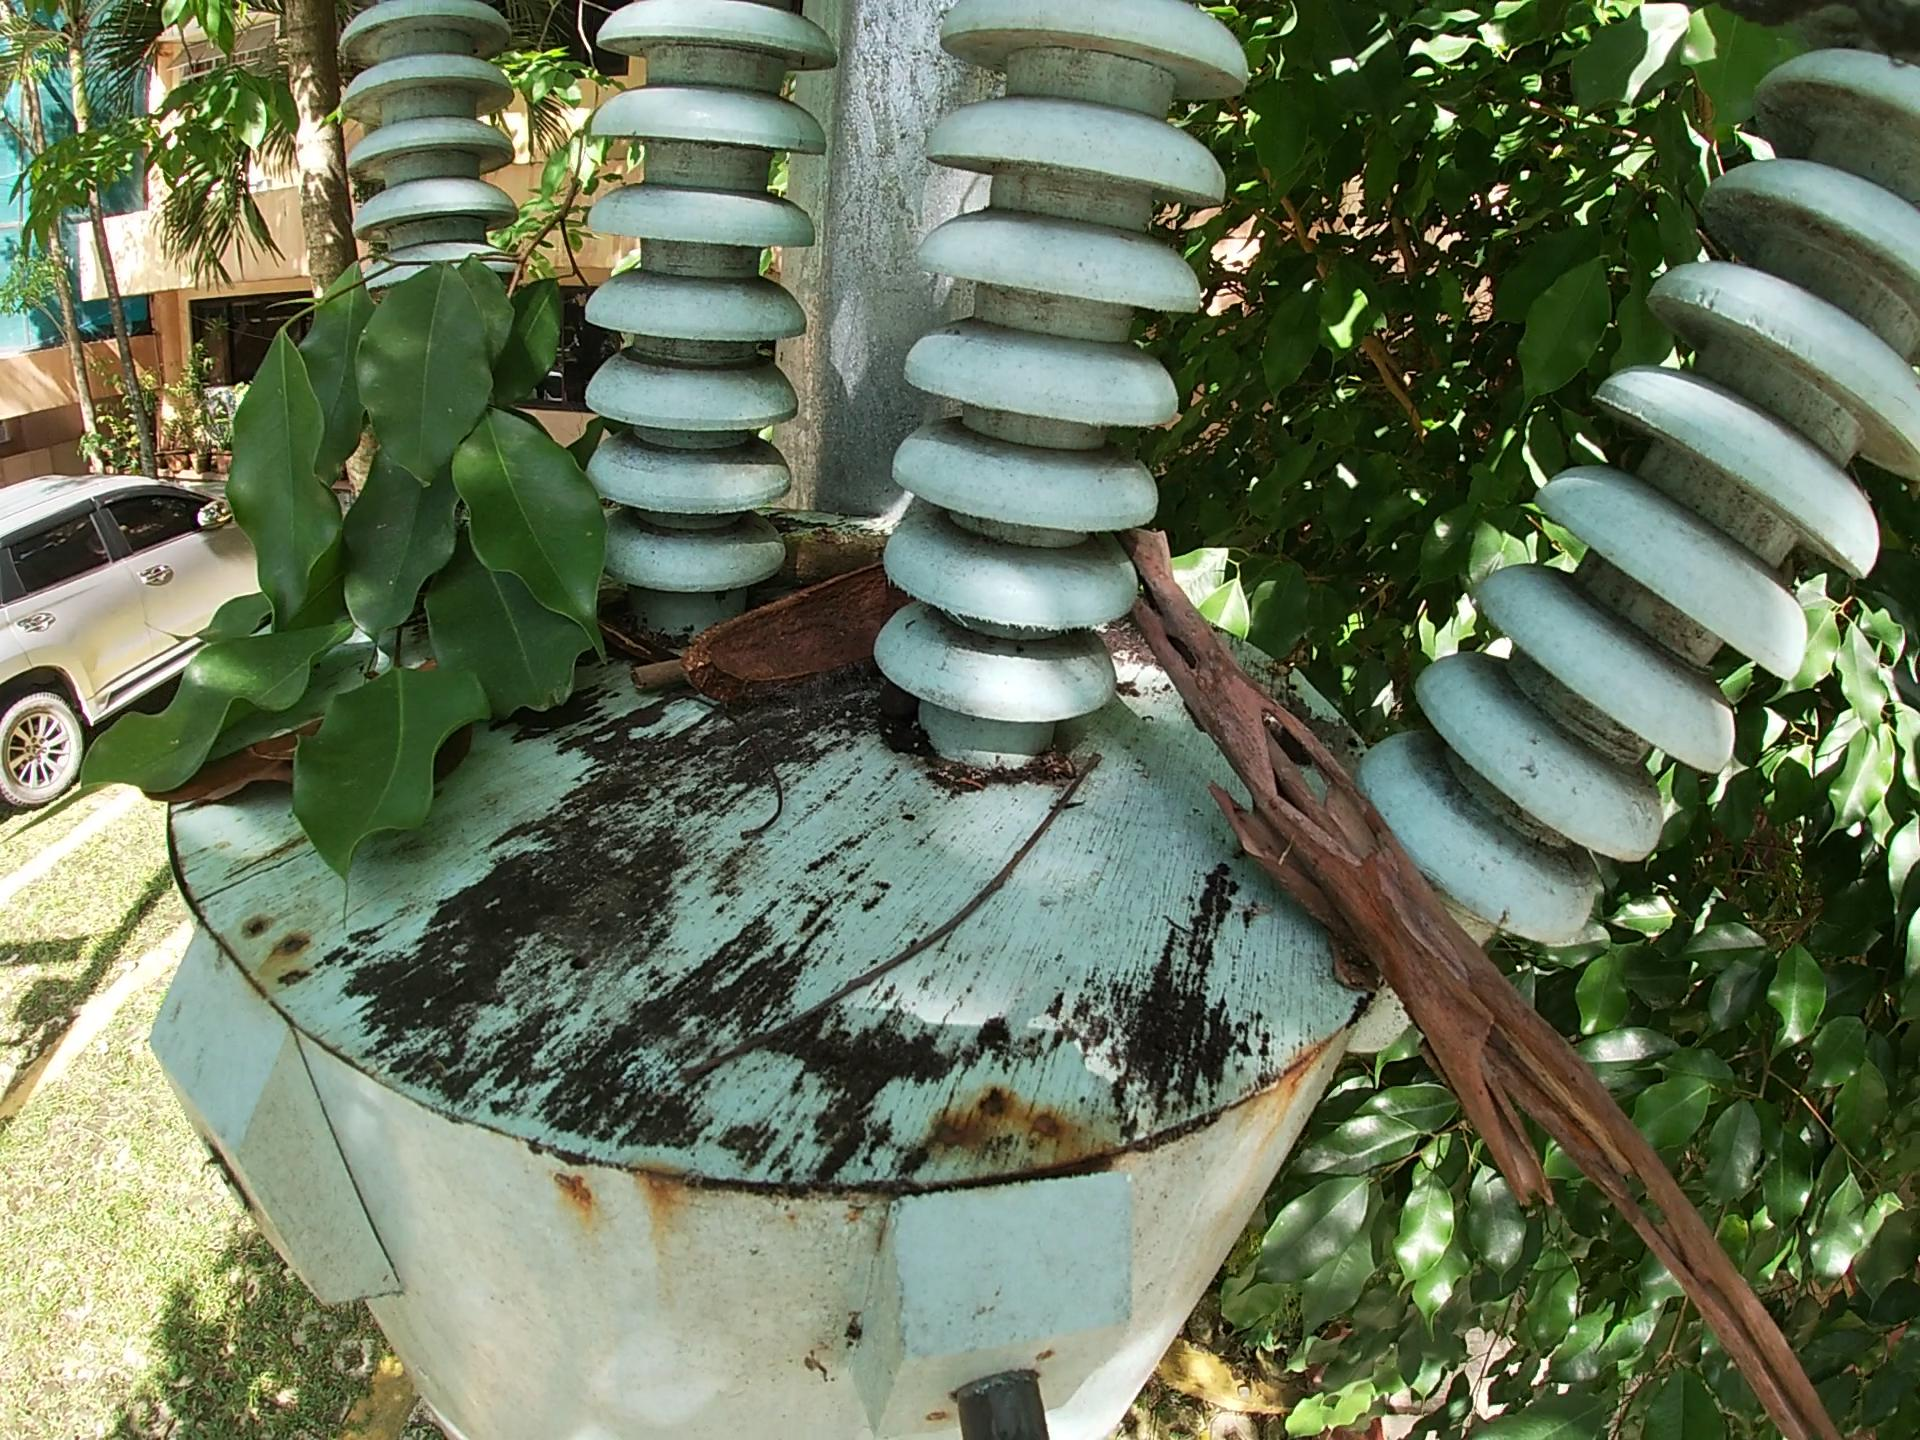branch with leaves: (48, 185, 621, 927)
leaf: (160, 743, 302, 846)
mahogany fruit: (661, 569, 906, 734)
tree branch: (1126, 513, 1872, 1438), (658, 746, 1105, 1077), (689, 697, 816, 867), (763, 513, 906, 579), (615, 659, 680, 706)
